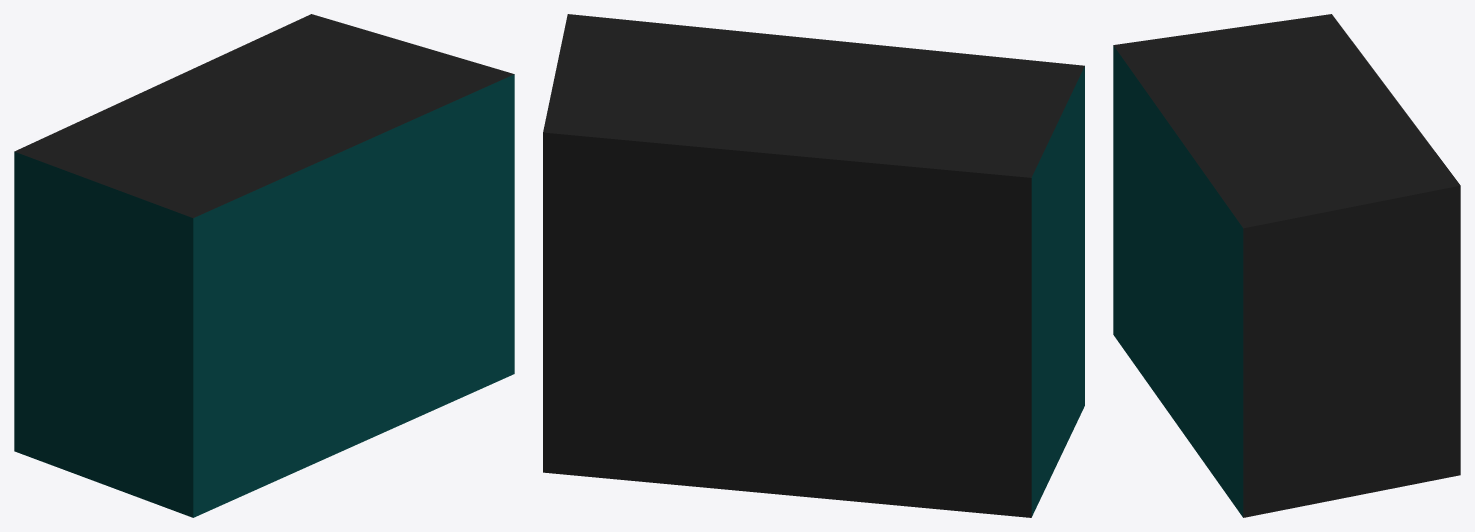
File: B_Werth_67_69_.FBX
The picture shows the model from 3 angles, left to right: view 1: azimuth 30°, elevation 25°; view 2: azimuth 150°, elevation 25°; view 3: azimuth 270°, elevation 25°; orthographic projection. The views are drawn at different scales.
Visible parts, largest first — view 1: B_Werth_67_69_Front, B_Werth_67_69_Side, B_Werth_67_69; view 2: B_Werth_67_69, B_Werth_67_69_Side; view 3: B_Werth_67_69, B_Werth_67_69_Front.
Boxes of the visible parts, <box> form: B_Werth_67_69_Front: <box>193,74,514,517</box>; B_Werth_67_69_Side: <box>14,151,193,517</box>; B_Werth_67_69: <box>14,14,514,218</box>; B_Werth_67_69: <box>543,14,1084,517</box>; B_Werth_67_69_Side: <box>1031,66,1084,516</box>; B_Werth_67_69: <box>1113,14,1460,517</box>; B_Werth_67_69_Front: <box>1113,45,1243,517</box>.
Size of the model in its own units: 3015 by 1900 by 2065.
